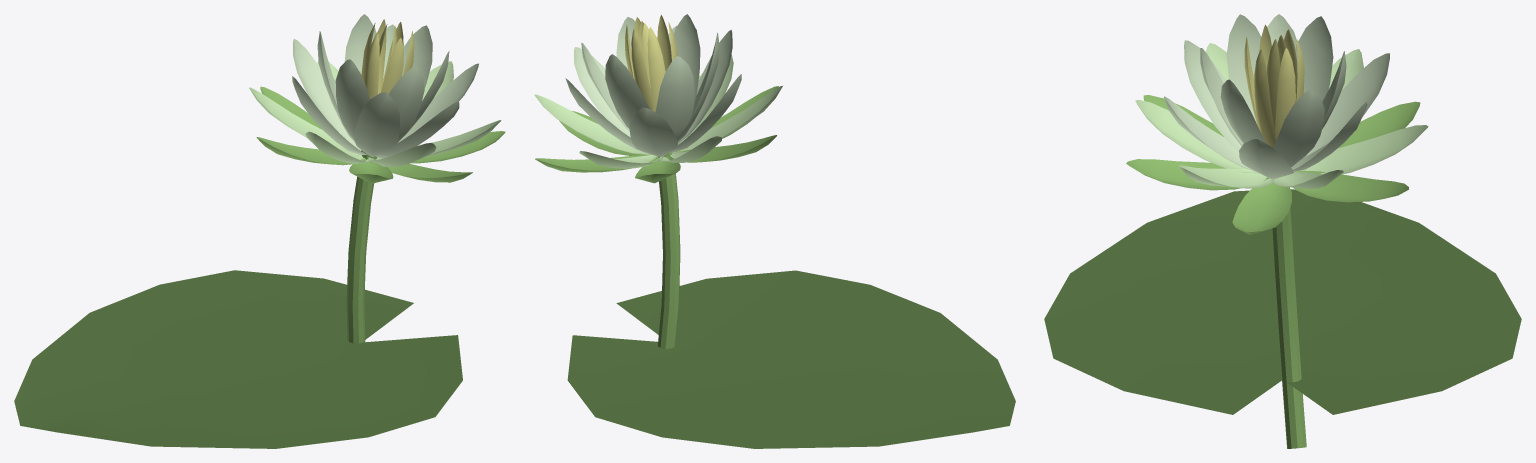
The model's file is Flower With WaterLily.fbx.
3 renders of one model, left to right at view 1: azimuth 30°, elevation 25°; view 2: azimuth 150°, elevation 25°; view 3: azimuth 270°, elevation 25°, orthographic. The views are drawn at different scales.
Parts seen in each view (by area): view 1: Water_Lily_with_Flower; view 2: Water_Lily_with_Flower; view 3: Water_Lily_with_Flower.
Boxes of the visible parts, x1,y1,x2,y2 form: Water_Lily_with_Flower: [14, 14, 505, 448]; Water_Lily_with_Flower: [534, 14, 1015, 448]; Water_Lily_with_Flower: [1044, 14, 1521, 448].
Bounding box in the file's own units: 3.54 × 2.7 × 2.72.
